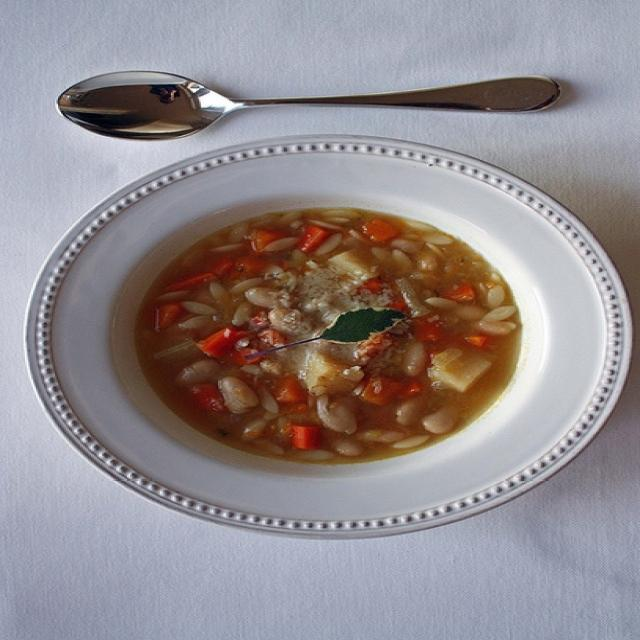汤锅炖物: (41, 107, 615, 556)
